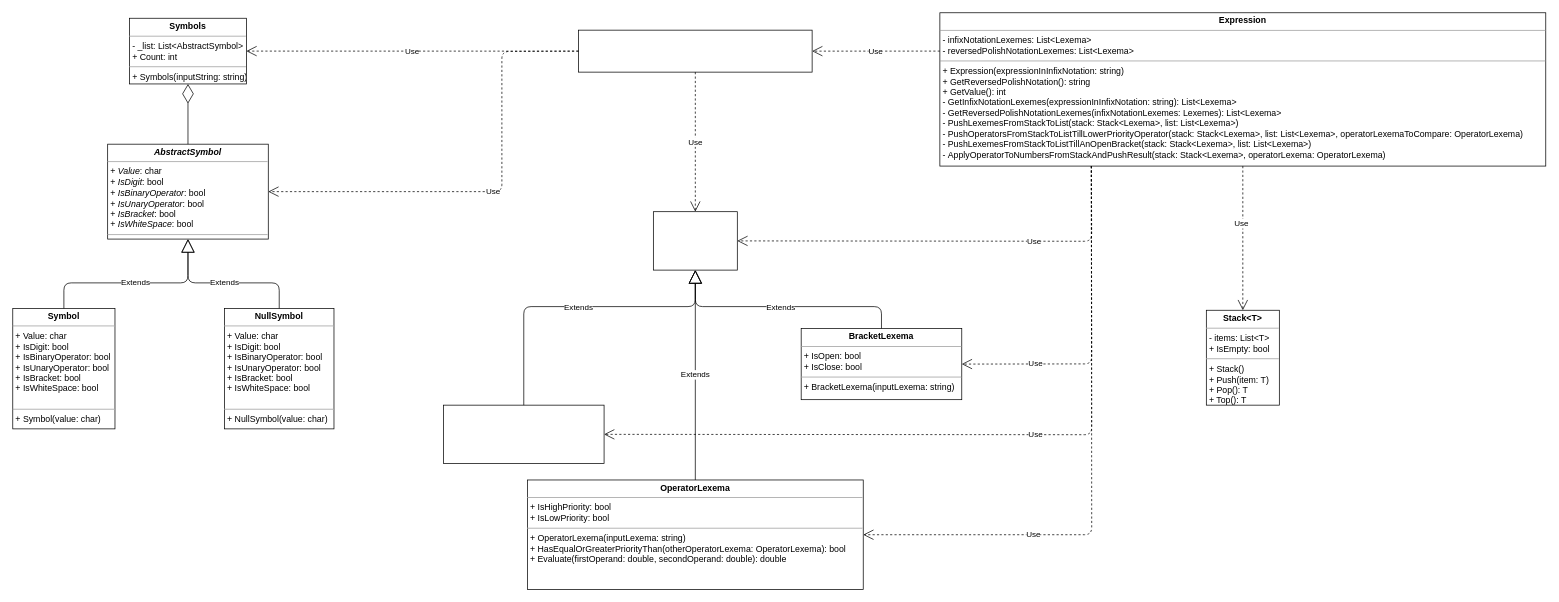
The diagram is 1559 pixels wide and 602 high, and some of its shapes have lost their labels. Each missing label, with the centre of its shape:
"Lexema # value: string + ToString(): string" belongs at (695,240).
"LexemesParser + Parse(expressionInInfixNotation: string): List<Lexema>" belongs at (695,50).
"NumericLexema + Value: double + NumericLexema(inputLexema: string)" belongs at (523,434).
